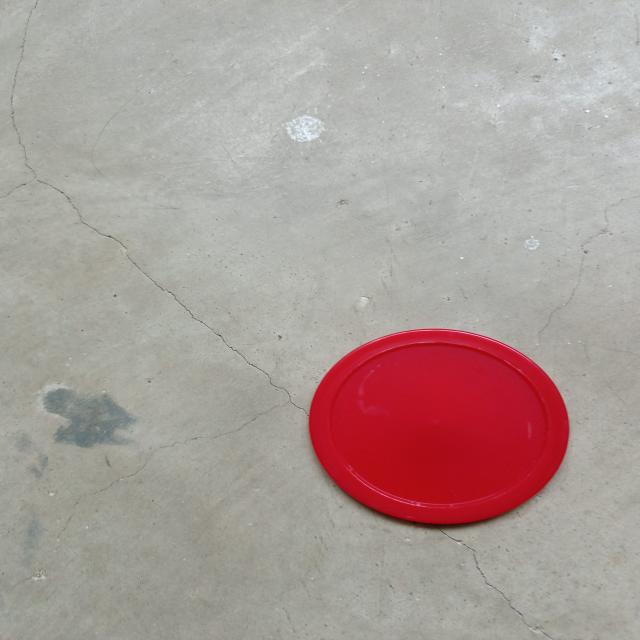chip: (305, 325, 571, 525)
